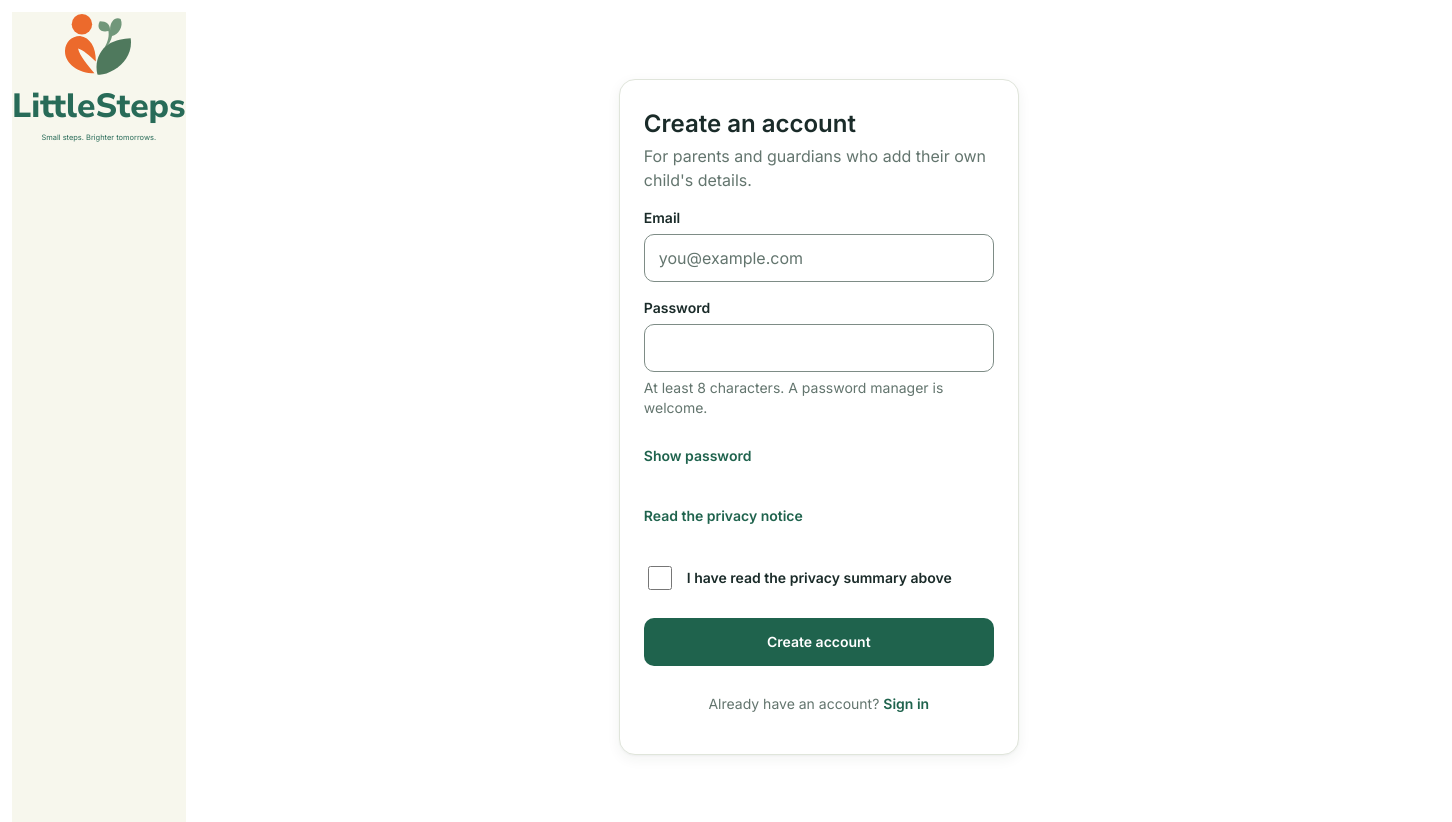
it: CreateAccountForm › shows the email error and focuses the email field
Type "nope" into the field labelled "Email".
click(819, 258); type("nope")  # box [644,234,994,282]
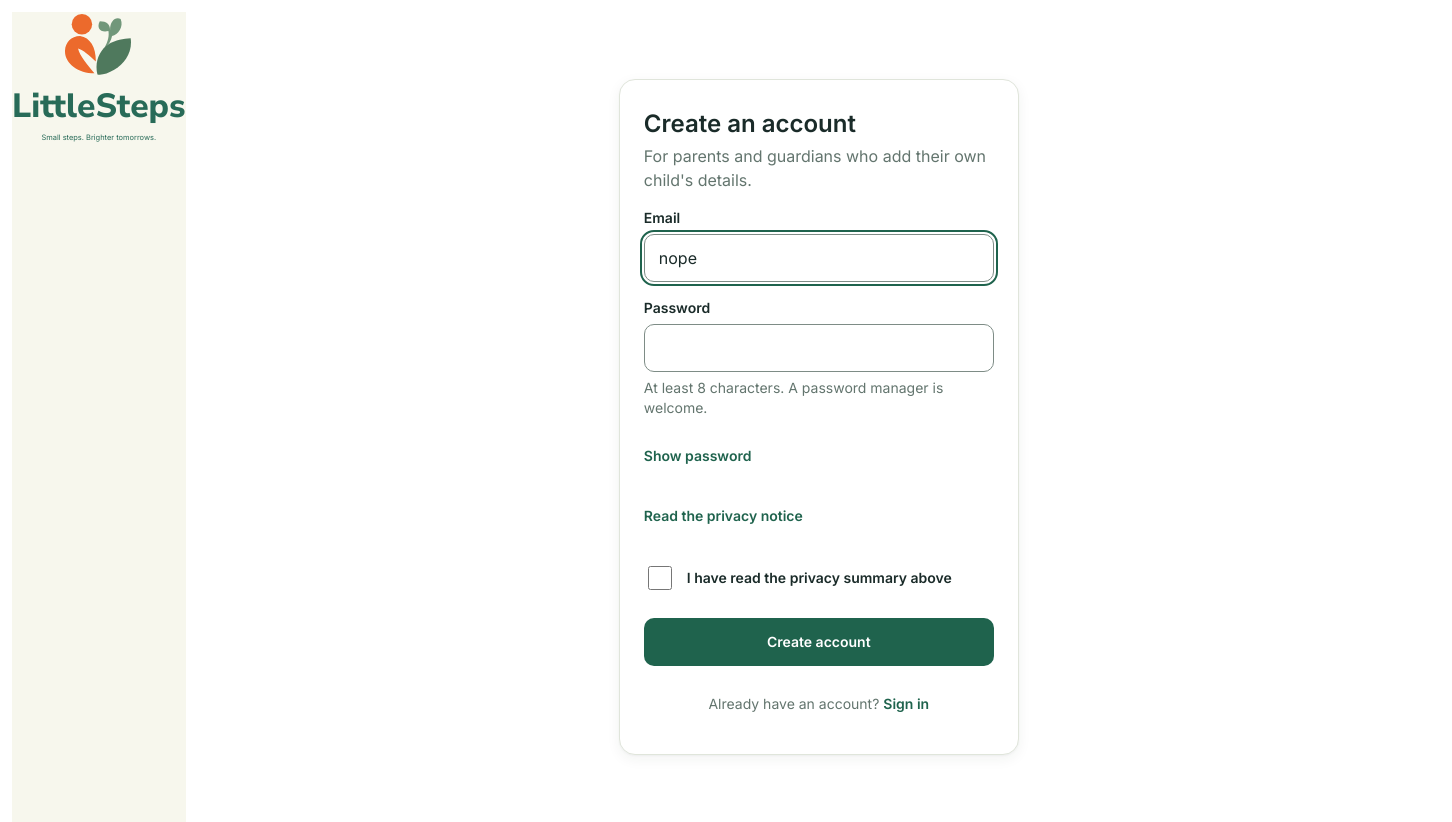
Type "longenough1" into the password field labelled "Password".
click(819, 348); type("longenough1")  # box [644,324,994,372]
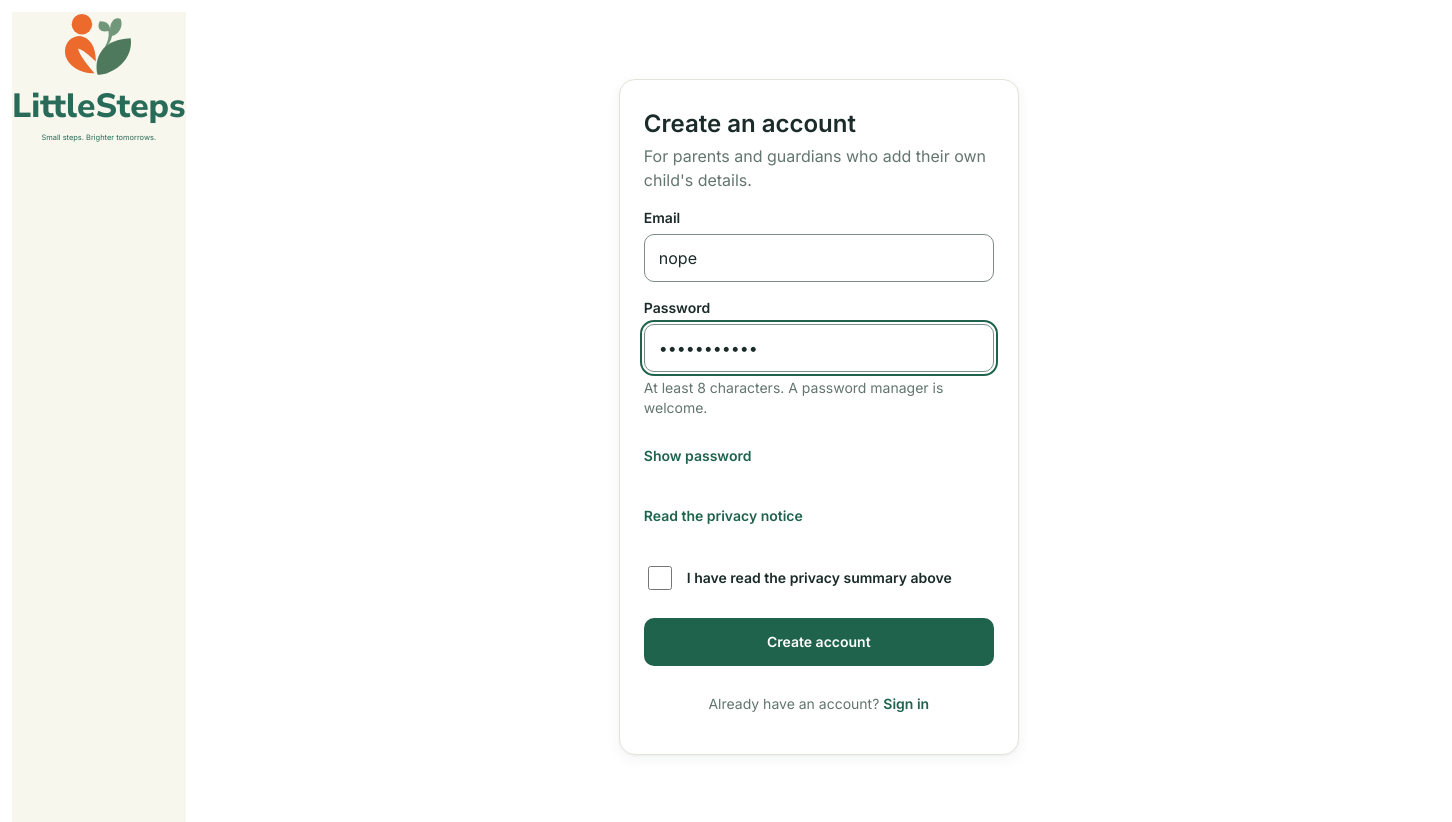
Click the checkbox labelled "I have read the privacy summary above".
click(660, 578)  # box [648,566,672,590]
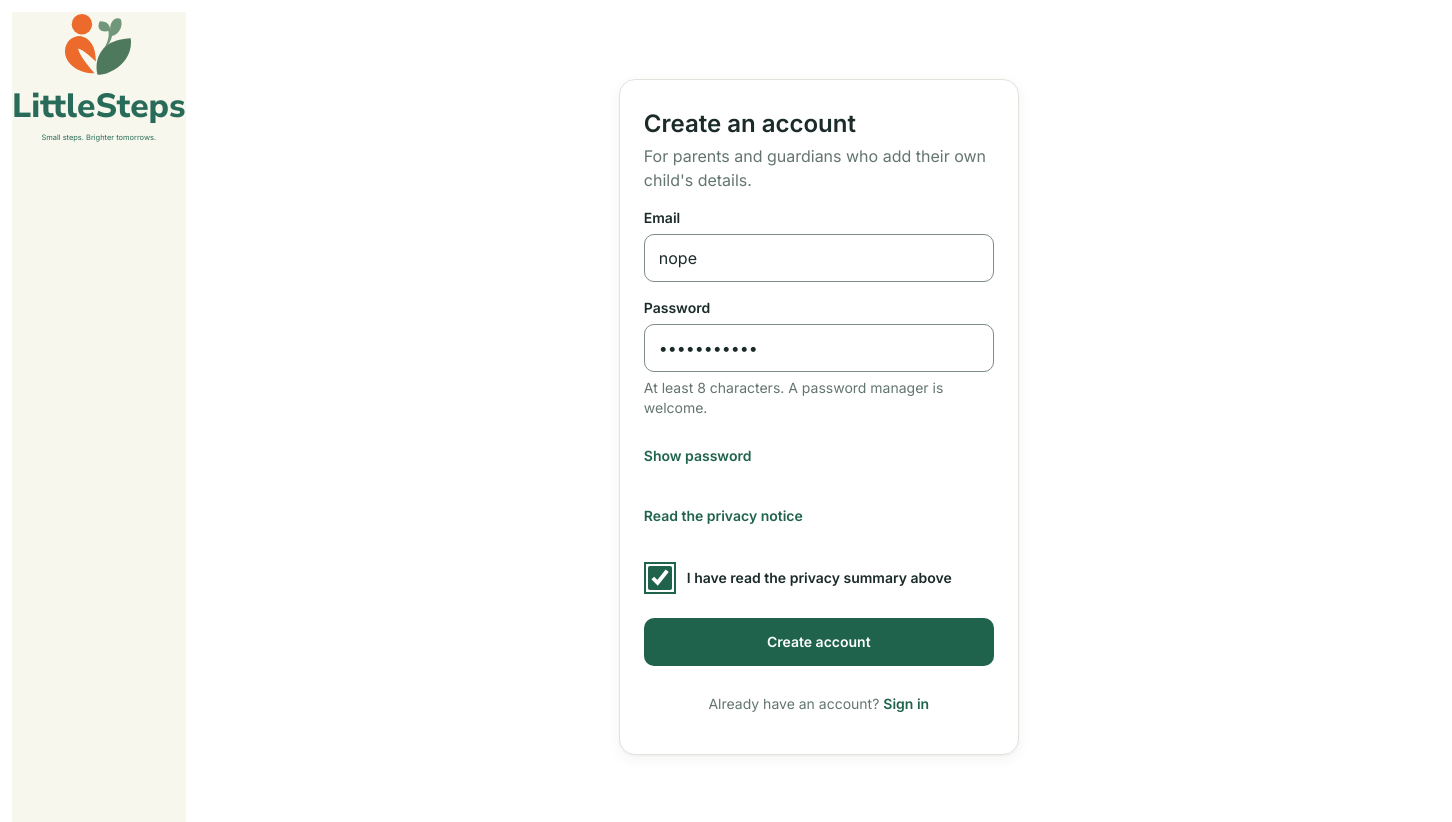
Click the button "Create account".
click(819, 642)  # box [644,618,994,666]
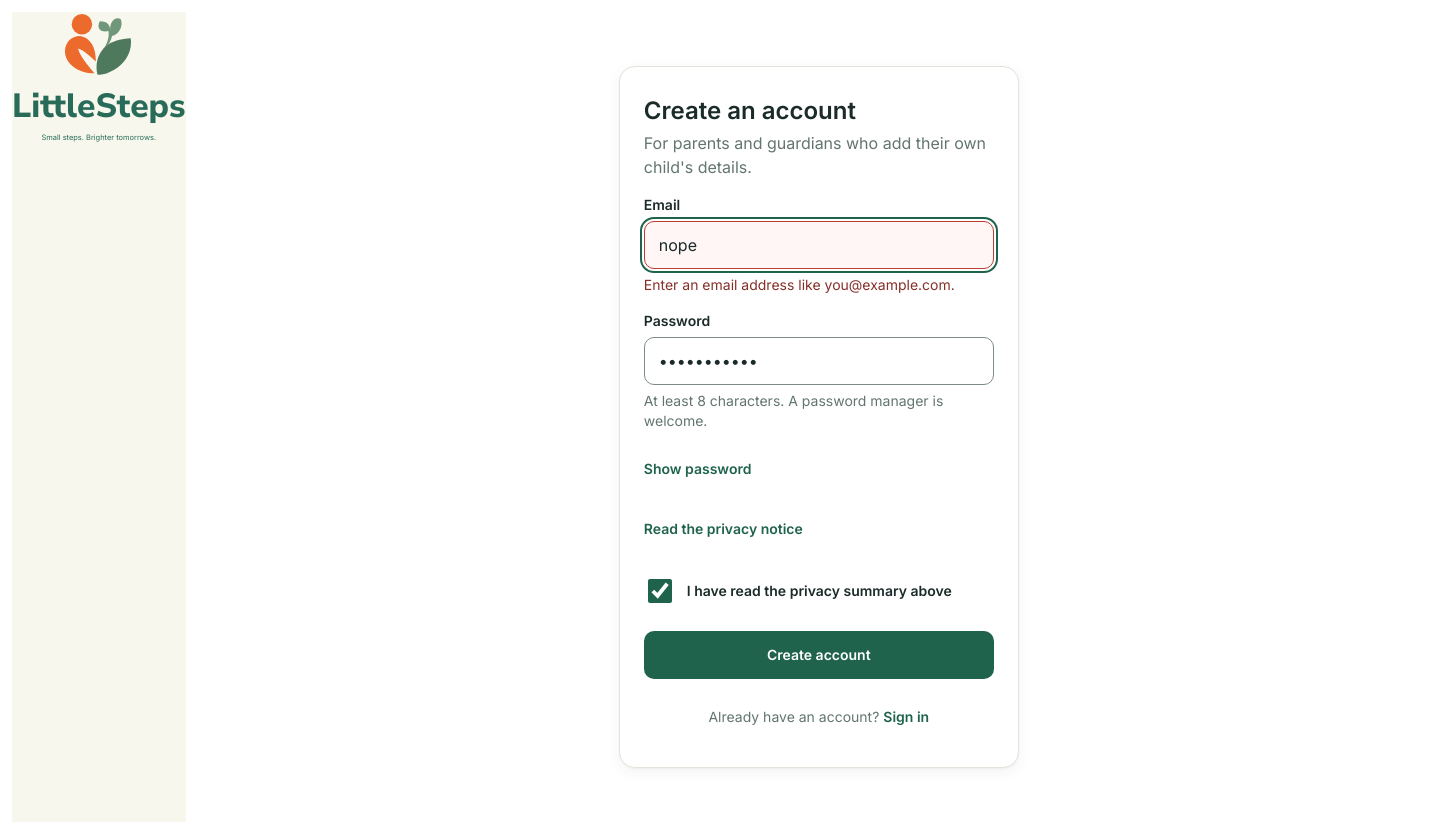
Expected: the text "Enter an email address like you@example.com." is shown, [644,275,994,295]
